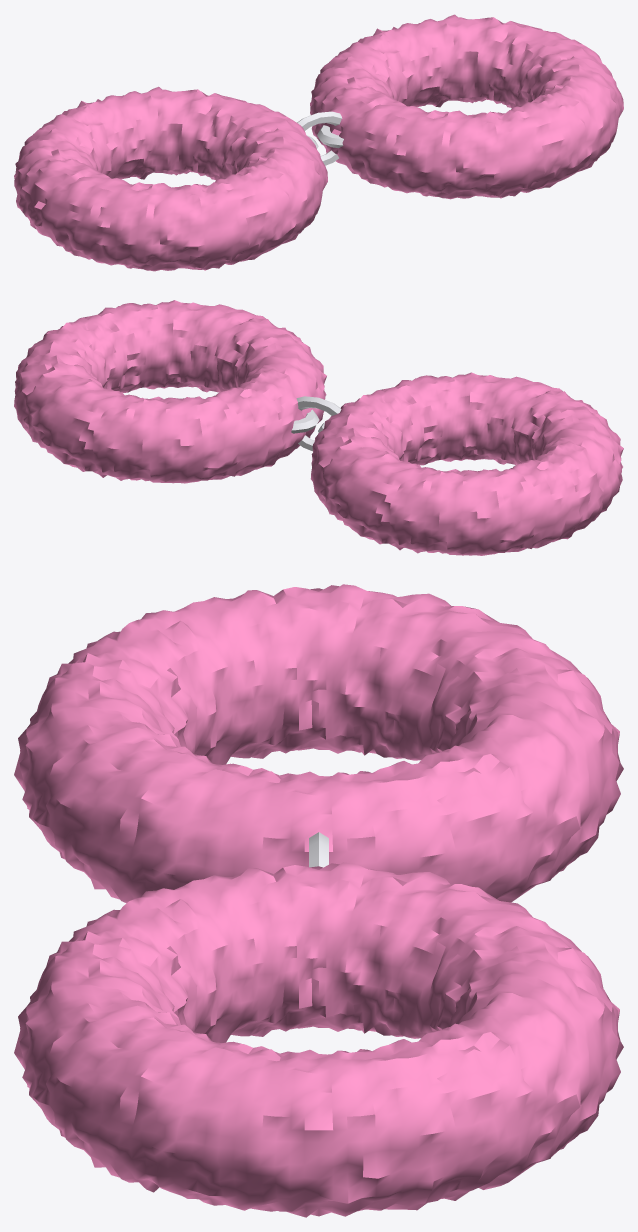
The model's file is Item_FluffyHandcuffs.fbx.
3 renders of one model, top to bottom at view 1: azimuth 30°, elevation 25°; view 2: azimuth 150°, elevation 25°; view 3: azimuth 270°, elevation 25°, orthographic. The views are drawn at different scales.
Visible parts, largest first — view 1: Cuff_Fur0, Cuff_Fur1, Cuff_Chain; view 2: Cuff_Fur0, Cuff_Fur1, Cuff_Chain; view 3: Cuff_Fur1, Cuff_Fur0.
Part boxes in pixels (x1=…): Cuff_Fur0: x1=14, y1=86, x2=327, y2=271; Cuff_Fur1: x1=310, y1=14, x2=623, y2=199; Cuff_Chain: x1=297, y1=111, x2=343, y2=165; Cuff_Fur0: x1=310, y1=372, x2=623, y2=555; Cuff_Fur1: x1=14, y1=300, x2=326, y2=483; Cuff_Chain: x1=291, y1=396, x2=341, y2=451; Cuff_Fur1: x1=14, y1=862, x2=623, y2=1217; Cuff_Fur0: x1=14, y1=584, x2=623, y2=903.
Size of the model in its own units: 0.1725 by 0.0239 by 0.0834.
